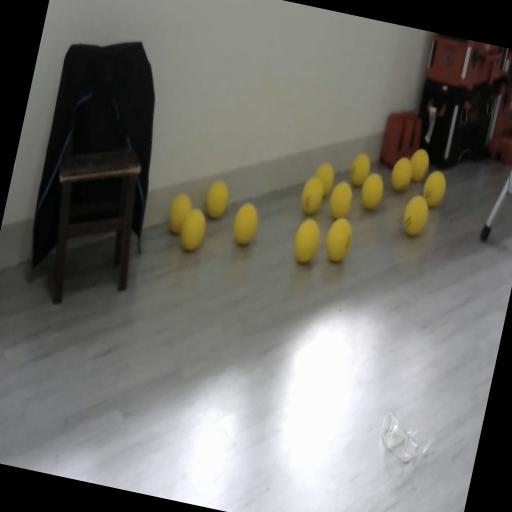FUEL: (289, 214, 324, 266), (174, 204, 210, 254), (321, 214, 356, 264), (228, 199, 262, 247), (398, 192, 432, 238), (356, 169, 386, 212), (202, 178, 232, 220), (326, 179, 355, 222), (420, 168, 448, 209), (310, 160, 337, 198), (405, 146, 432, 184), (347, 150, 373, 188), (388, 155, 414, 193)
